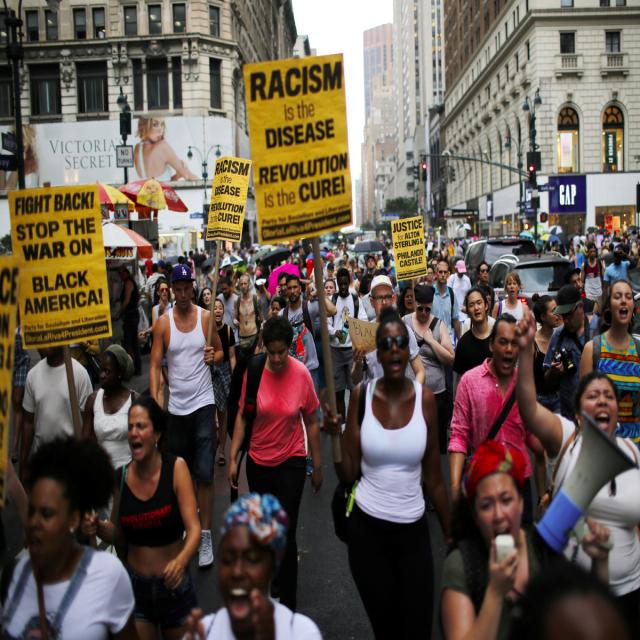human: (339, 308, 457, 638), (437, 430, 577, 640), (137, 249, 230, 546), (536, 360, 640, 593), (239, 317, 328, 588), (5, 442, 125, 640), (150, 268, 230, 556), (101, 378, 199, 610), (449, 300, 549, 477), (81, 336, 154, 488), (537, 274, 610, 410), (276, 264, 333, 438), (394, 276, 467, 401), (319, 254, 378, 386), (354, 271, 421, 377), (591, 268, 640, 406), (450, 280, 511, 374), (231, 276, 263, 356)
